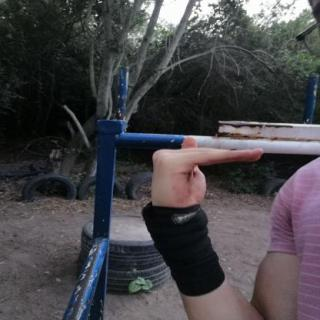KHAA: (134, 129, 276, 216)
